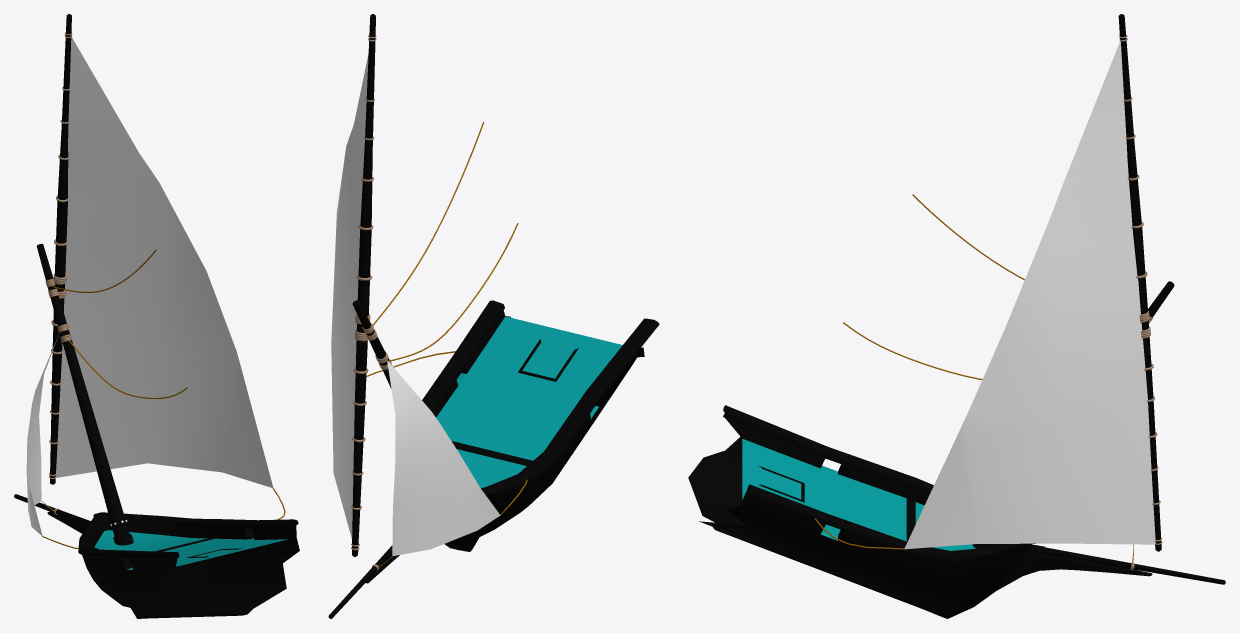
The model's file is BoatCut1.fbx.
The picture shows the model from 3 angles, left to right: view 1: azimuth 30°, elevation 25°; view 2: azimuth 150°, elevation 25°; view 3: azimuth 270°, elevation 25°; orthographic projection. The views are drawn at different scales.
Parts seen in each view (by area): view 1: coque1; view 2: coque1; view 3: coque1.
Part boxes in pixels (box(x1,y1,x2,y2)): coque1: box(14, 14, 299, 618); coque1: box(328, 14, 659, 618); coque1: box(688, 14, 1225, 618).
Bounding box in the file's own units: 27.28 × 75.09 × 60.32.
